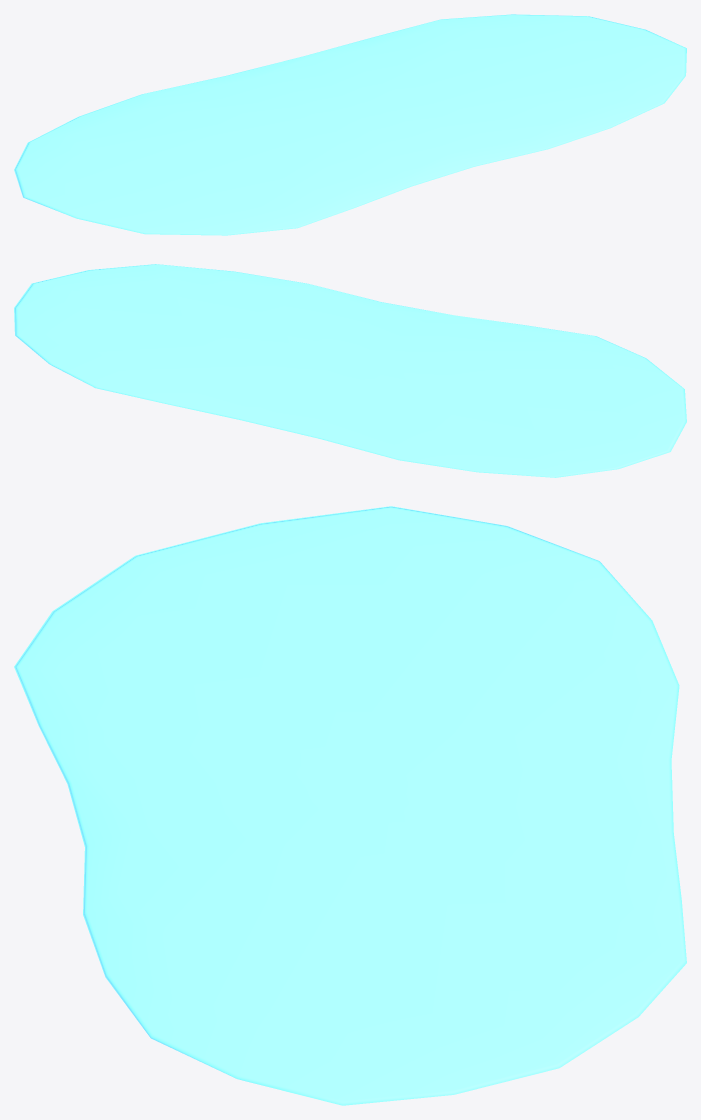
File: ooze_puddle_b.glb
3 views of the same model, one above another, from view 1: azimuth 30°, elevation 25°; view 2: azimuth 150°, elevation 25°; view 3: azimuth 270°, elevation 25° (orthographic). The views are drawn at different scales.
Parts seen in each view (by area): view 1: ooze_puddle_b; view 2: ooze_puddle_b; view 3: ooze_puddle_b.
Boxes of the visible parts, <box> form: ooze_puddle_b: <box>14,14,686,235</box>; ooze_puddle_b: <box>14,264,686,477</box>; ooze_puddle_b: <box>14,506,686,1105</box>.
Bounding box in the file's own units: 2.07 × 0.0549 × 0.9796.
